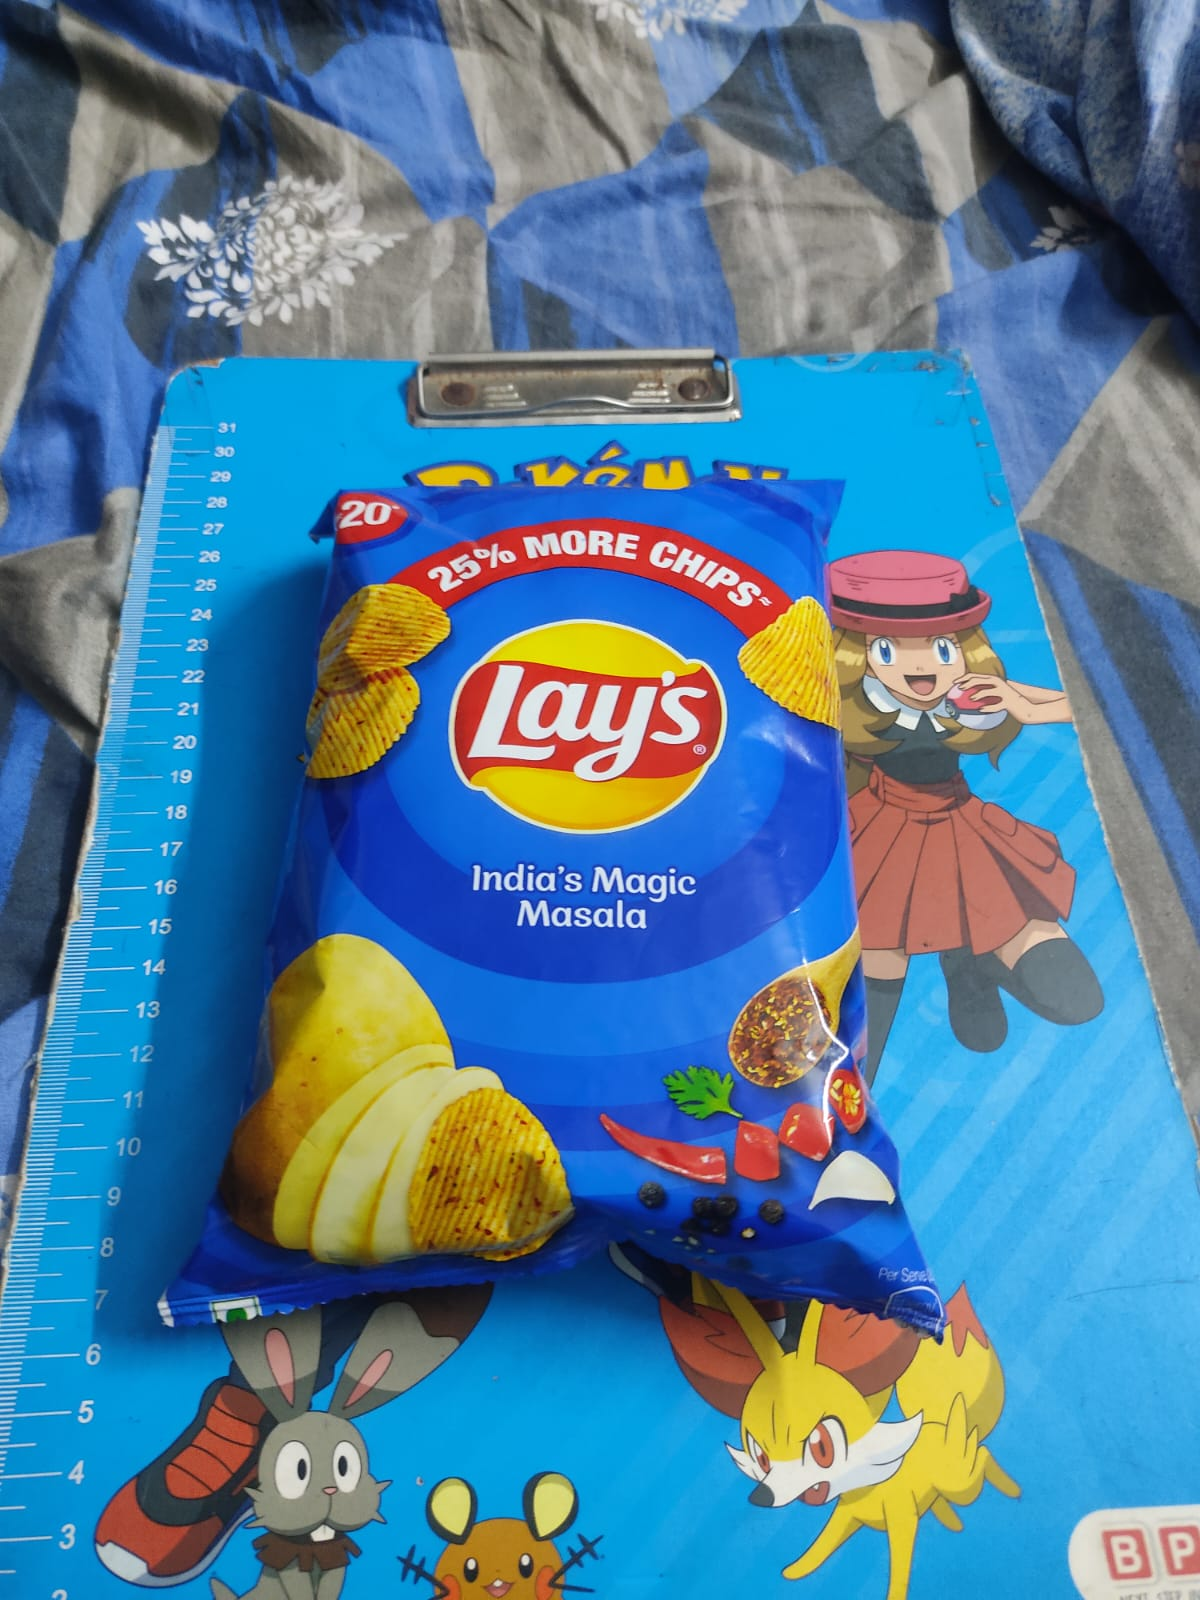020_BlueLays: (165, 467, 867, 1310)
